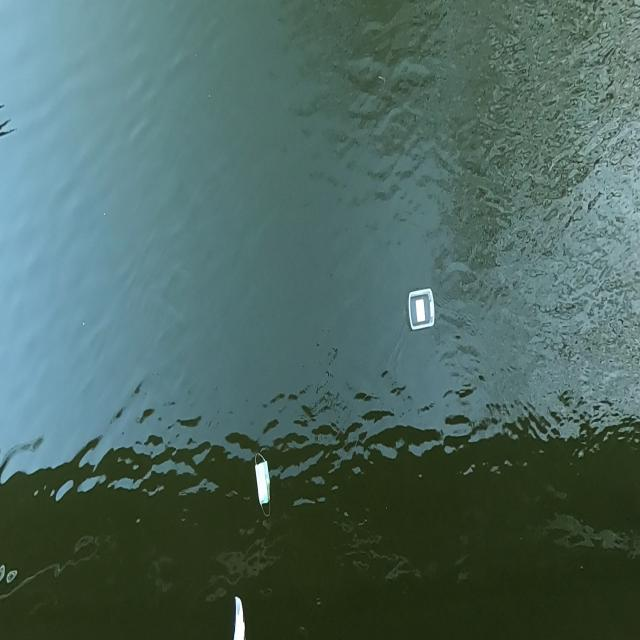Autre plastique: (404, 284, 440, 335)
Non plastique: (251, 451, 278, 522)
